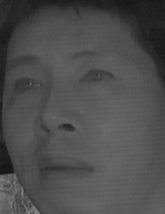eye: (80, 65, 116, 90), (7, 74, 45, 95)
mouth: (34, 150, 95, 191)
